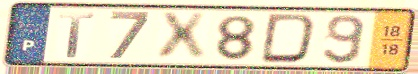7: (106, 9, 154, 62)
8: (213, 14, 261, 62)
9: (321, 13, 366, 66)
D: (257, 12, 320, 66)
T: (57, 11, 98, 59)
X: (156, 11, 209, 63)
